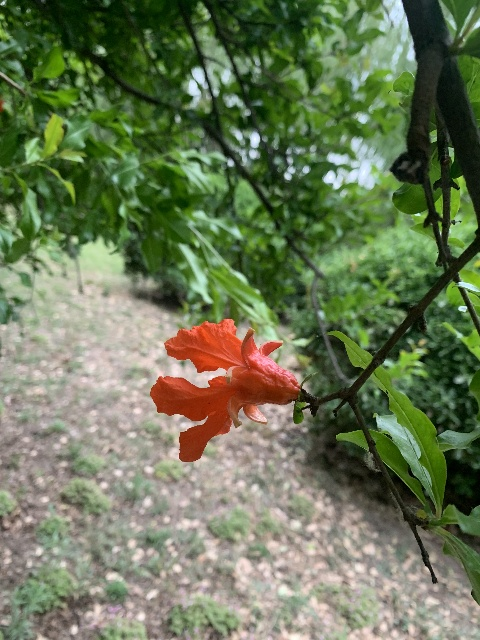flower: (150, 317, 300, 463)
